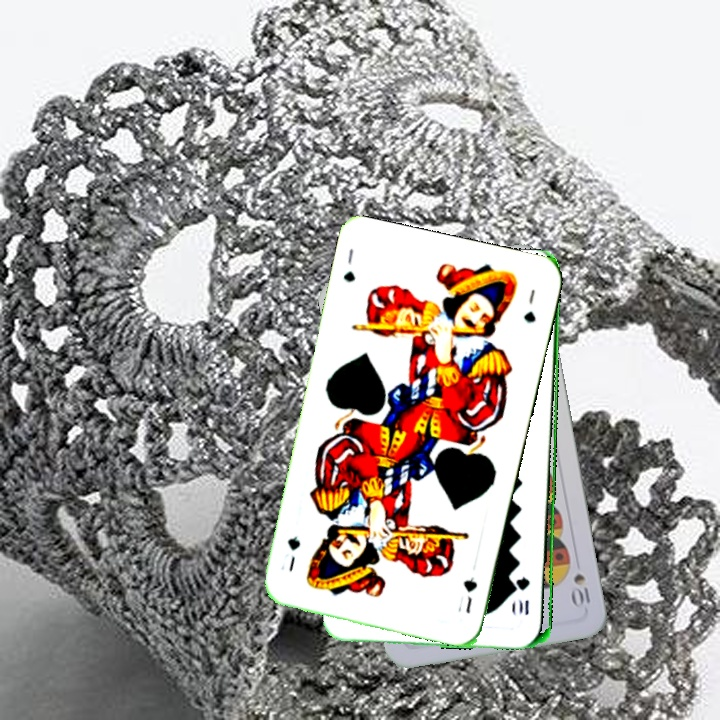G10: (516, 572, 533, 617)
GU: (459, 572, 480, 616), (339, 244, 358, 285)
S10: (569, 569, 593, 608)
